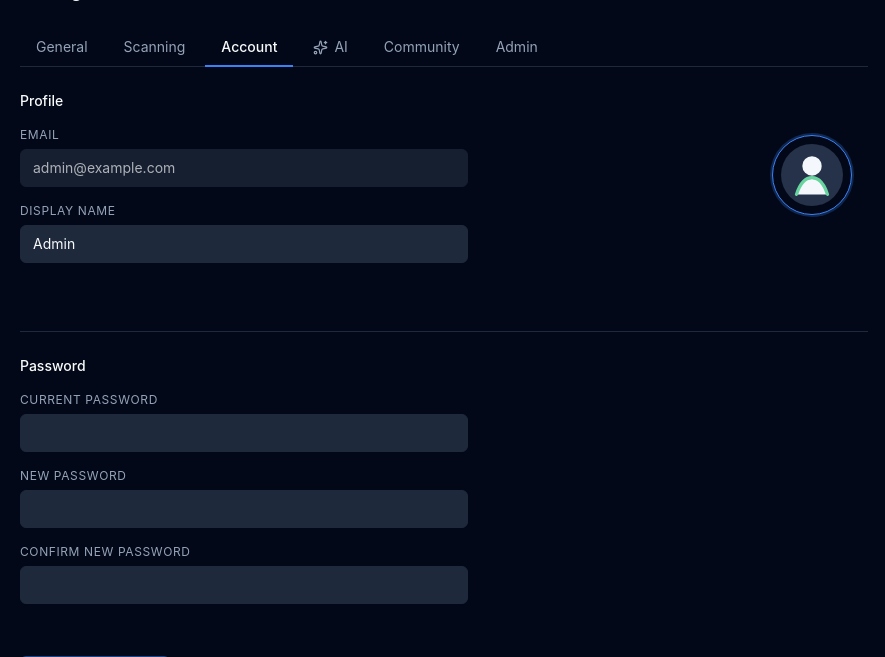
Test: AccountSettings › validates password confirmation locally before updating password
This screenshot has width=885, height=657.
Type "old password value" into the password field labelled "Current password" at (244, 433), box 20,414 -> 468,452
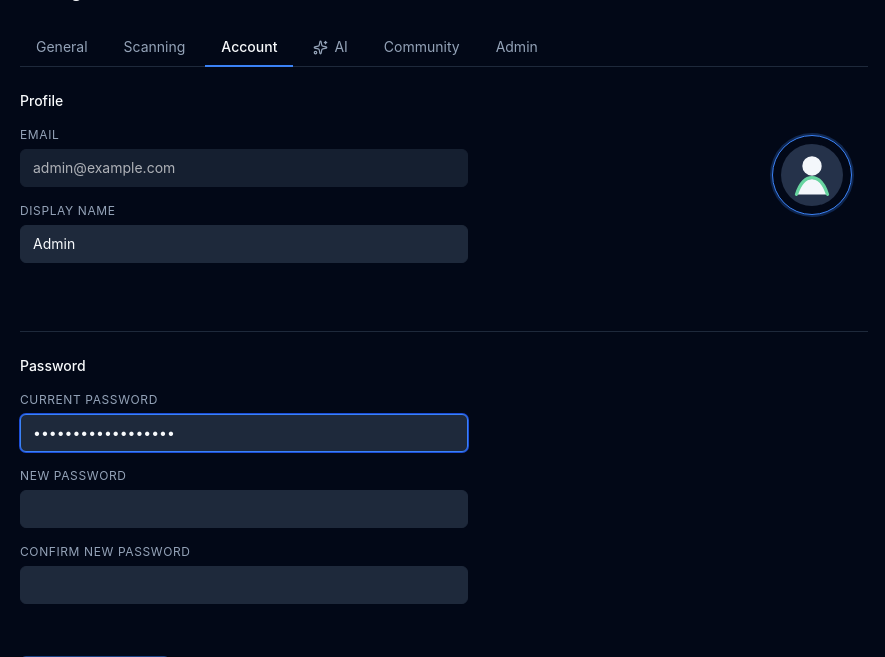
Type "new password value" into the password field labelled "New password" at (244, 509), box 20,490 -> 468,528
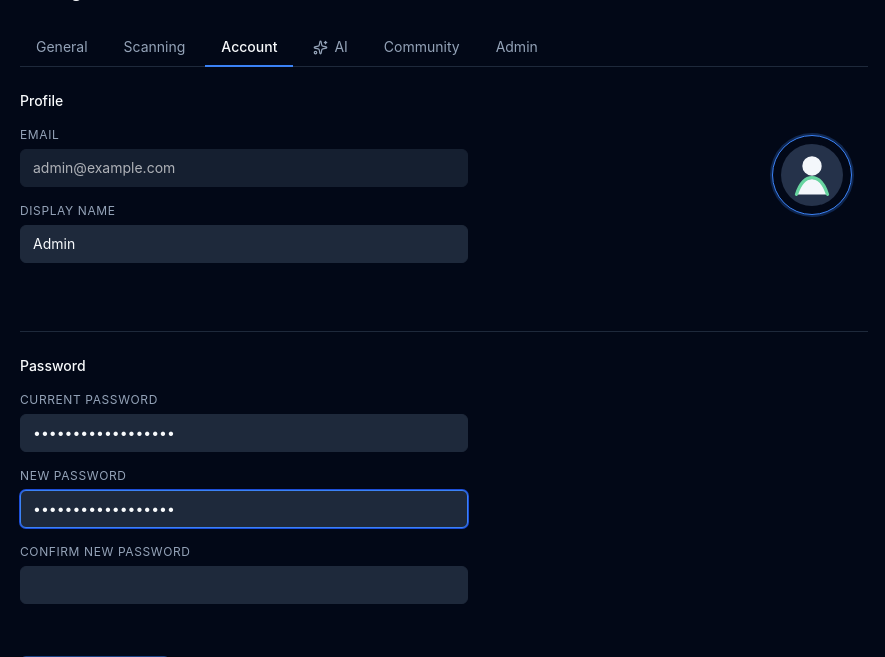
Type "different value" into the password field labelled "Confirm new password" at (244, 585), box 20,566 -> 468,604
(page scrolled)
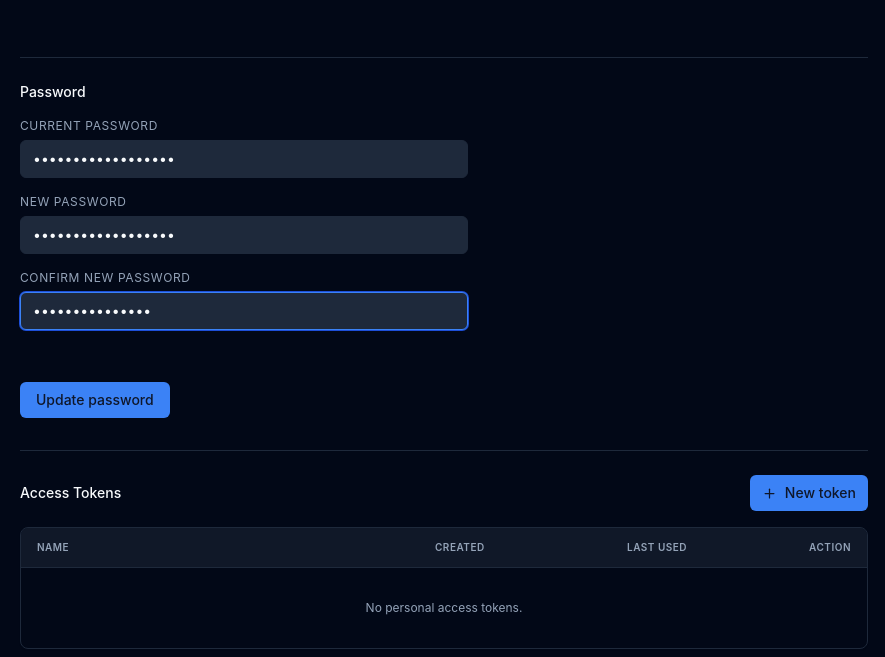
Click the button "Update password" at (95, 400), box 20,382 -> 170,418
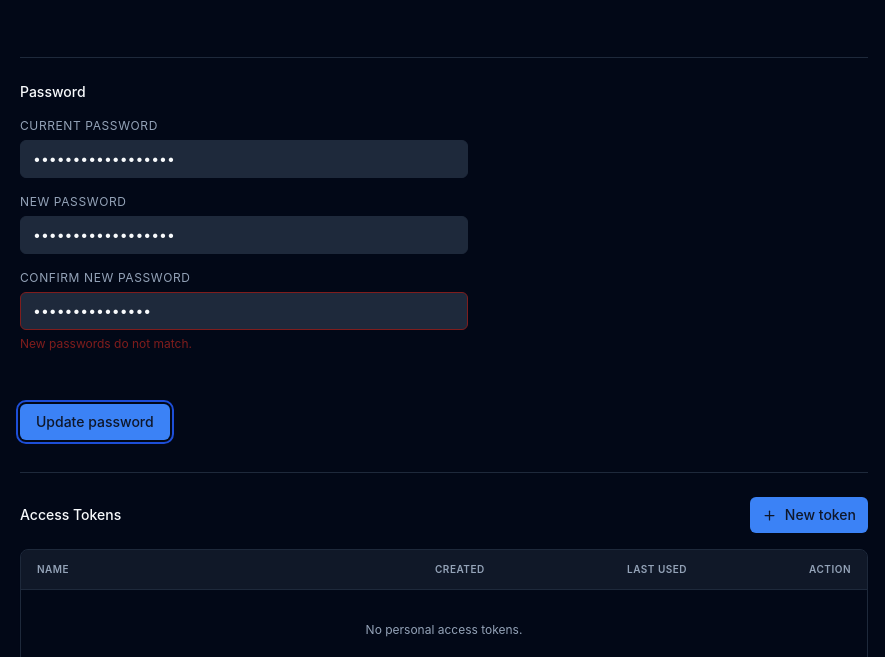
Check: the text "New passwords do not match." is shown, box 20,336 -> 192,351
